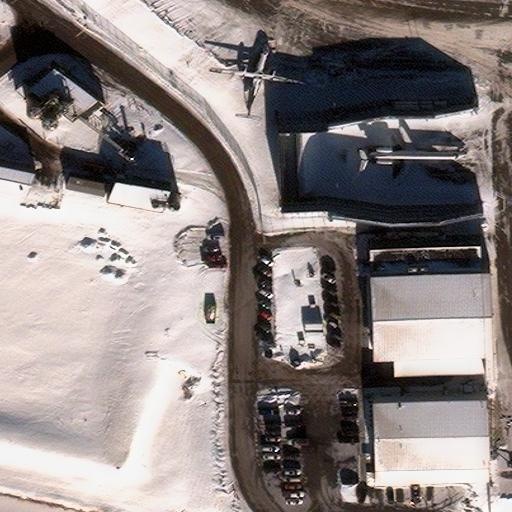Medium Civil Transport: (211, 44, 303, 118), (359, 125, 465, 188)
